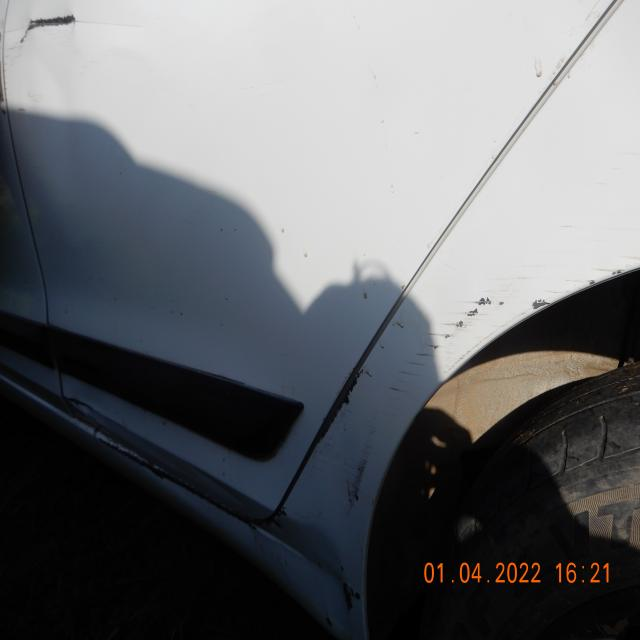damage: (394, 282, 508, 387), (65, 396, 167, 490), (275, 506, 362, 615), (526, 263, 626, 318), (13, 14, 82, 44), (342, 366, 369, 411), (349, 459, 369, 514)
